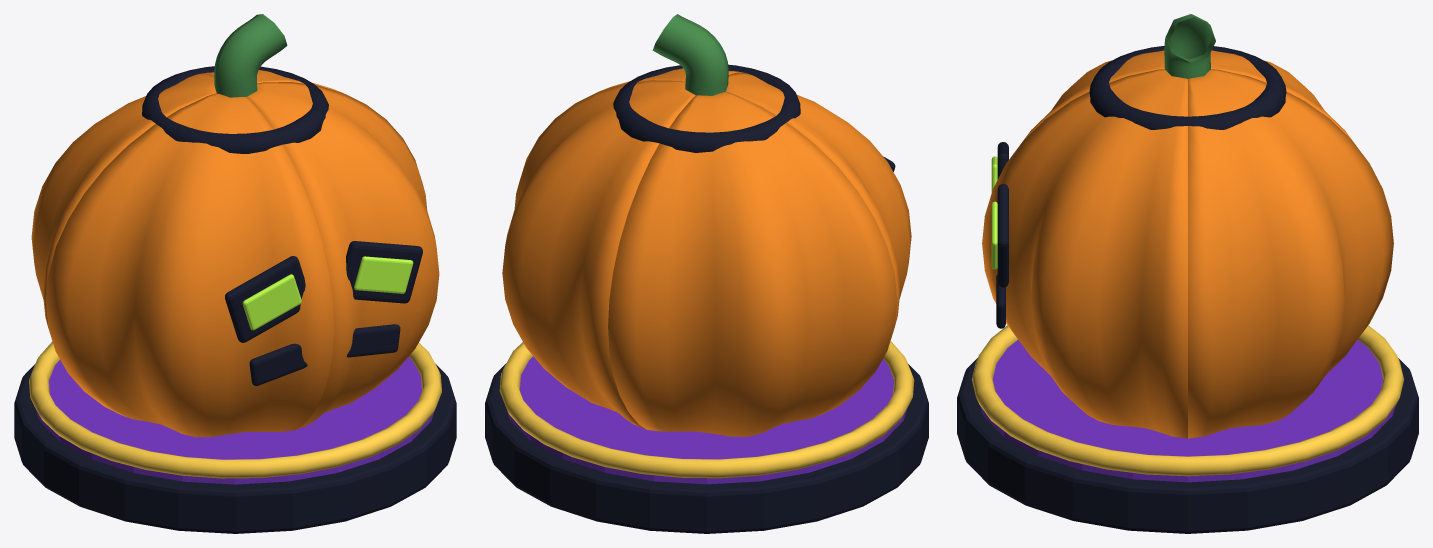
The model's file is PumpkinCore.fbx.
The picture shows the model from 3 angles, left to right: view 1: azimuth 30°, elevation 25°; view 2: azimuth 150°, elevation 25°; view 3: azimuth 270°, elevation 25°; orthographic projection. The views are drawn at different scales.
Visible parts, largest first — view 1: Shell_FL, Frame, Shell_FR, Shell_BL; view 2: Shell_BL, Frame, Shell_BR, Shell_FL; view 3: Frame, Shell_FR, Shell_BR, Shell_FL, Shell_BL.
Part boxes in pixels (bbox=[...]): Shell_FL: bbox=[45, 93, 333, 437]; Frame: bbox=[14, 14, 456, 533]; Shell_FR: bbox=[247, 82, 439, 429]; Shell_BL: bbox=[31, 74, 216, 327]; Shell_BL: bbox=[608, 91, 897, 436]; Frame: bbox=[485, 14, 928, 533]; Shell_BR: bbox=[502, 80, 695, 429]; Shell_FL: bbox=[726, 72, 911, 325]; Frame: bbox=[957, 14, 1418, 533]; Shell_FR: bbox=[982, 69, 1187, 438]; Shell_BR: bbox=[1188, 69, 1393, 438]; Shell_FL: bbox=[991, 50, 1187, 192]; Shell_BL: bbox=[1188, 50, 1351, 139].
Size of the model in its own units: 440 by 460 by 440.
1 material, 1 textured.
